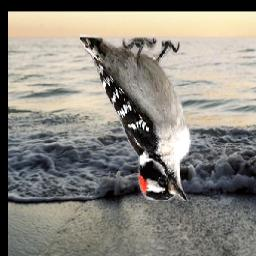Woodpecker: (79, 35, 192, 202)
